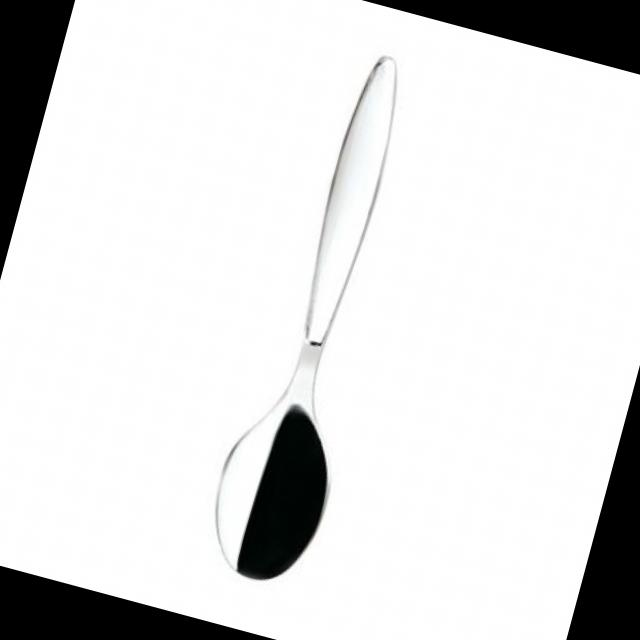spoon: (194, 41, 448, 596)
